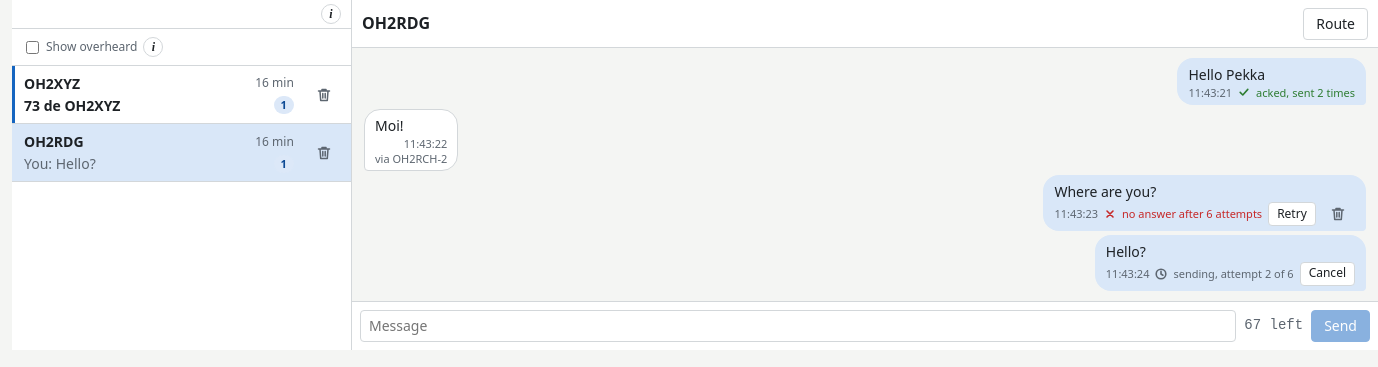
Test: MessagesPane, wide › has the (i) of the tab at the top of the list, which says what a message is and where one starts
The width and height of the screenshot is (1378, 367).
Click the 1st button with class "info-toggle" at {"x": 331, "y": 14}, box [321,4,341,24]
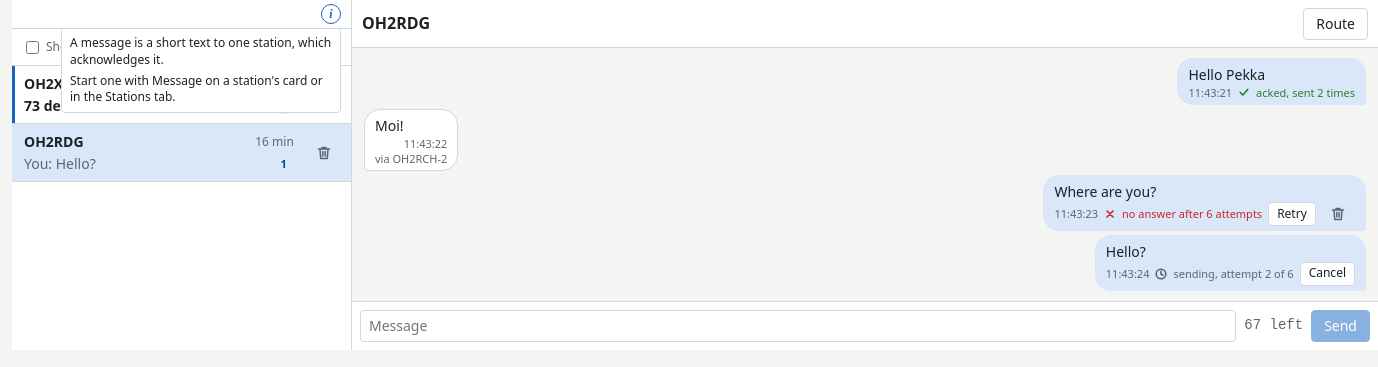
Now the element with class "info-text" shows "A message is a short text to one station, which acknowledges it.", box [70,34,331,68]
Now the element with class "info-text" shows "Message on a station's card", box [70,72,323,105]
